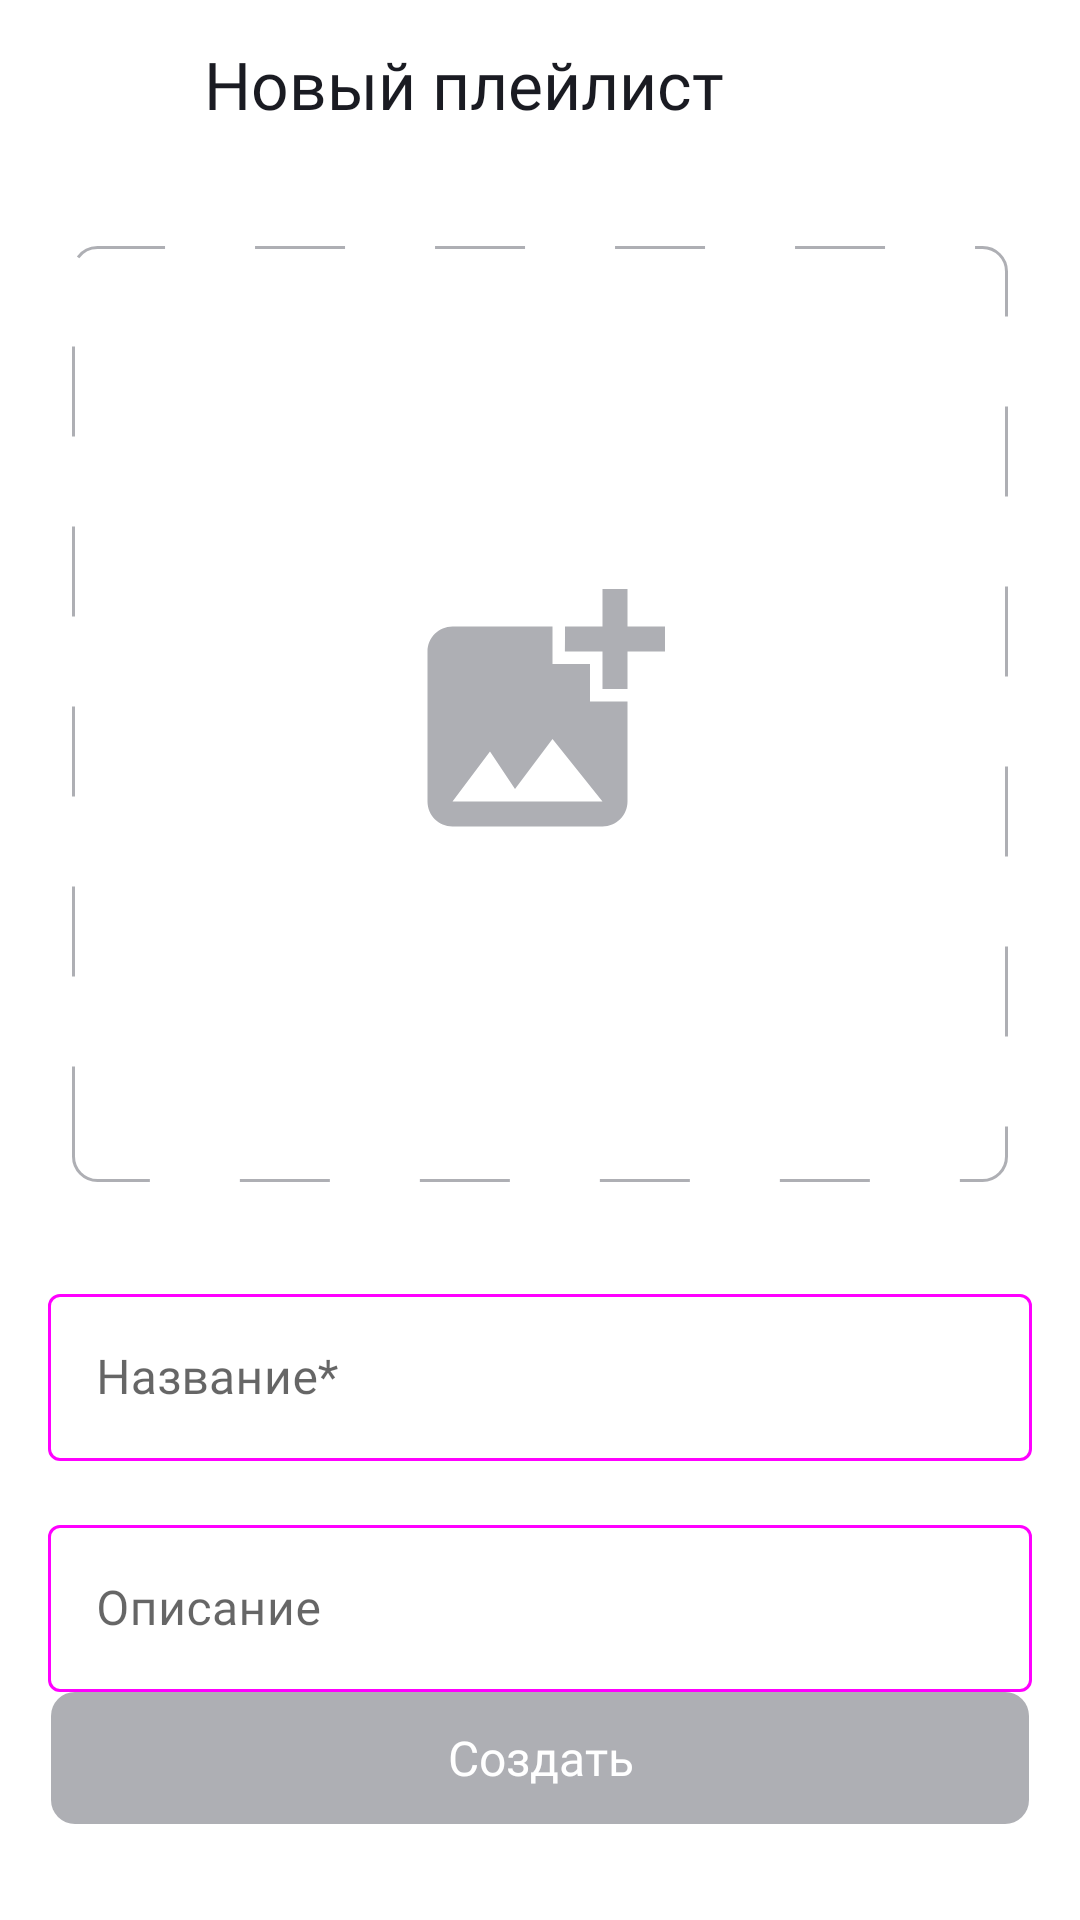

Icon click points for this 1080 × 1920 phone screenshot, format [x,y]:
add photo: [546,708]
